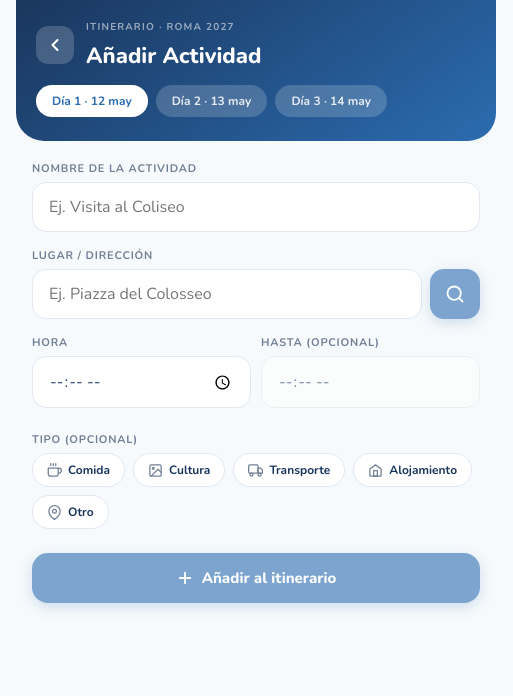
Scenario: AnadirActividad · buscador de direcciones › si la búsqueda falla muestra el mensaje del servidor y el formulario sigue funcionando
The width and height of the screenshot is (513, 696).
In the field labelled "Lugar / Dirección": (227, 294) [32,269,422,319], type "Colosseo"
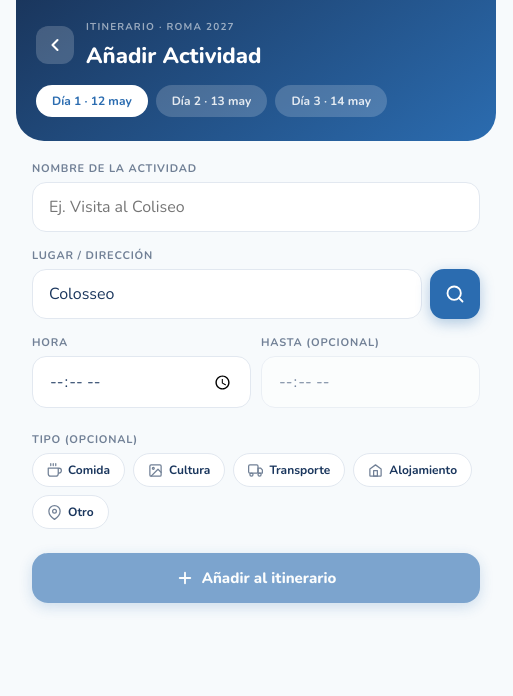
Click the button named "Buscar dirección": (455, 294) [430,269,480,319]
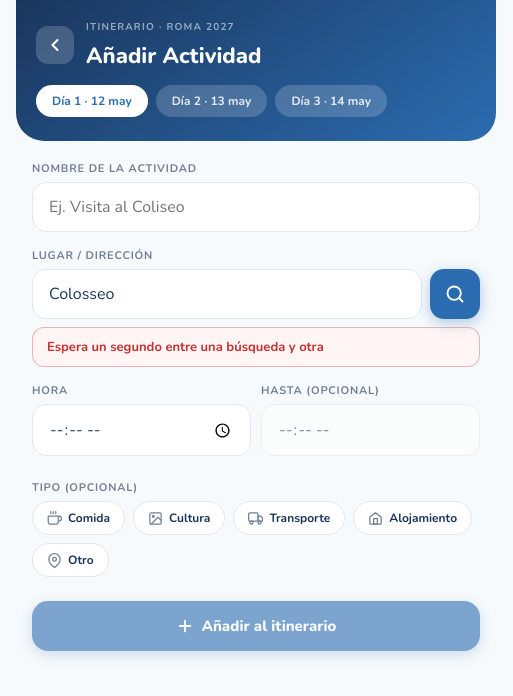
expect the message reads "Espera un segundo entre una búsqueda y otra": met, box [47,338,324,356]
Click the button named "Buscar dirección": (455, 294) [430,269,480,319]
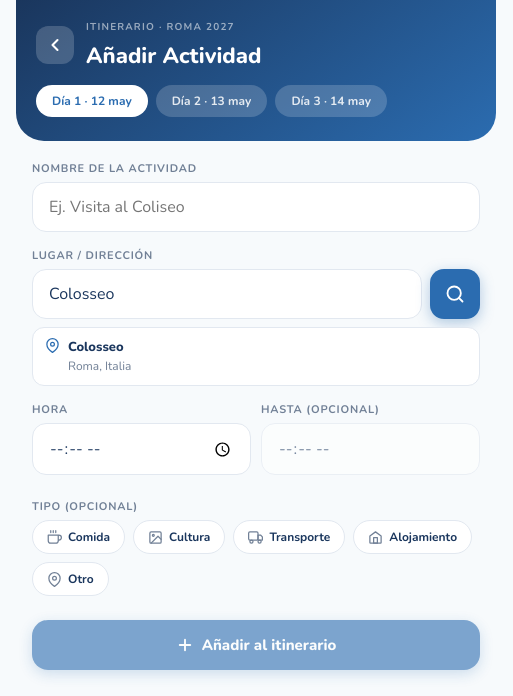
expect the list named "Resultados de la búsqueda" is shown: met, box [32,327,480,386]
expect the message "Espera un segundo entre una búsqueda y otra" is gone: met
